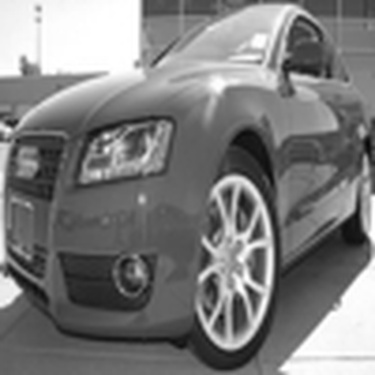car: (1, 5, 372, 372)
